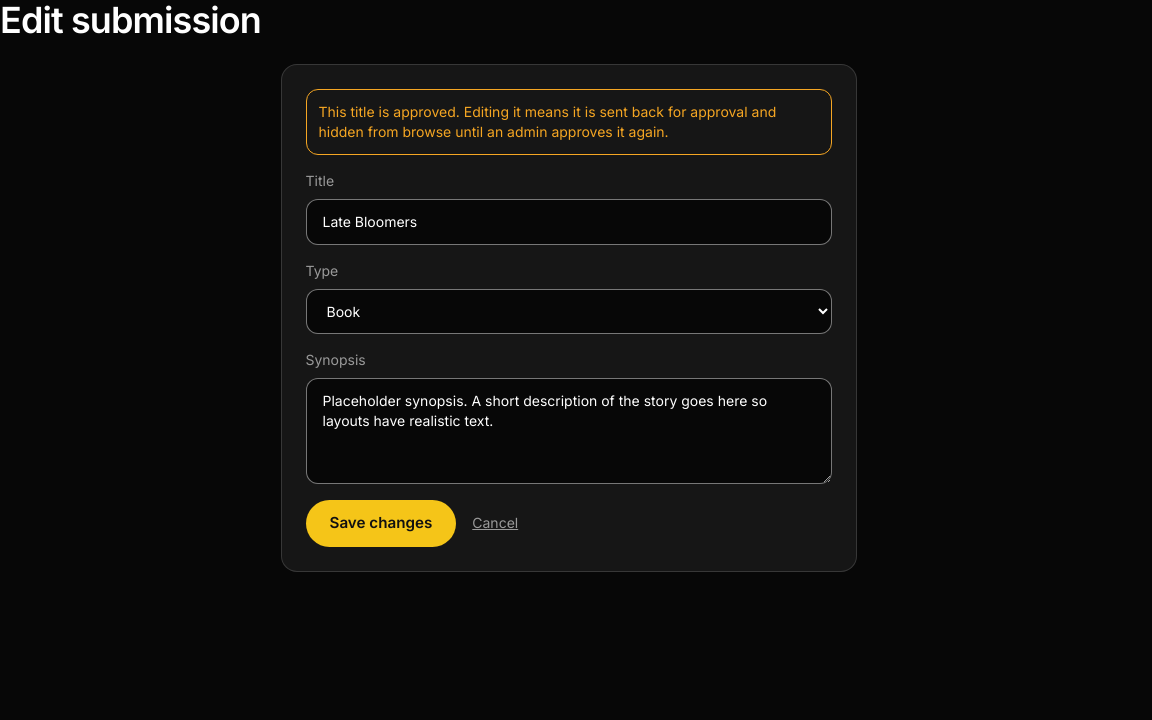
SubmissionForm (edit) › editing an APPROVED title warns first and saves nothing until confirmed
Expected: the text "sent back for approval" is shown, [318,103,776,140]
Replace the text in the field labelled "Title" with "Renamed" at (568, 222), box [306,199,832,245]
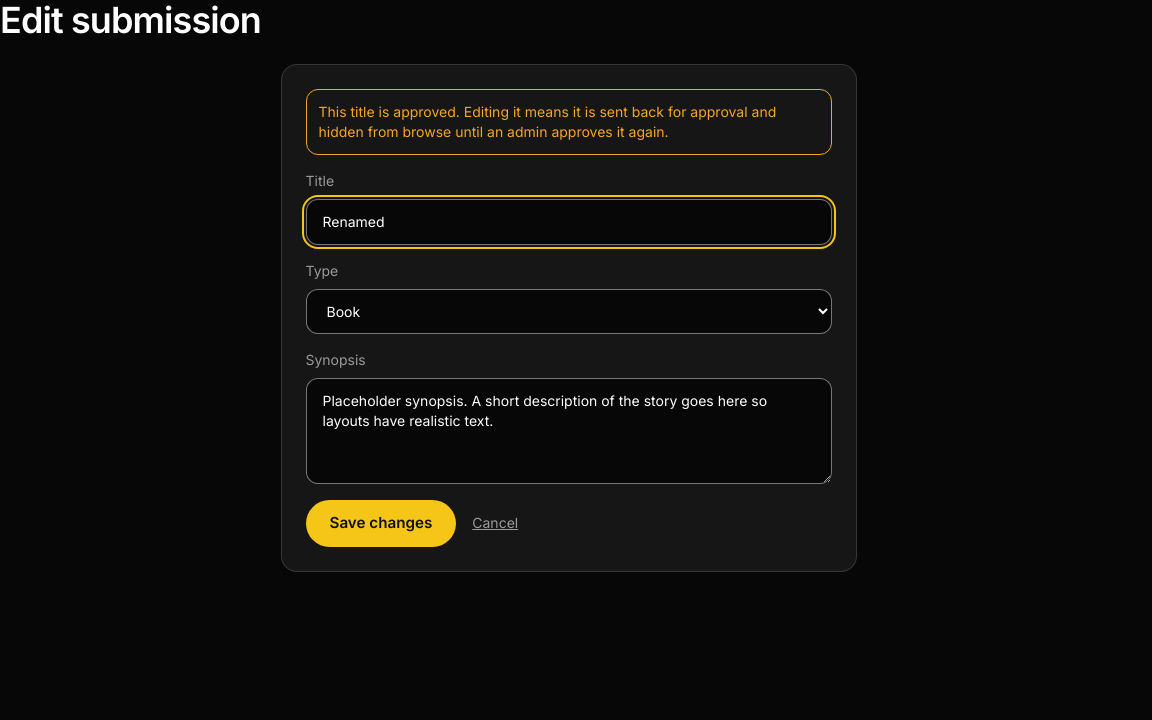
Click the button "Save changes" at (381, 523), box [306,500,456,547]
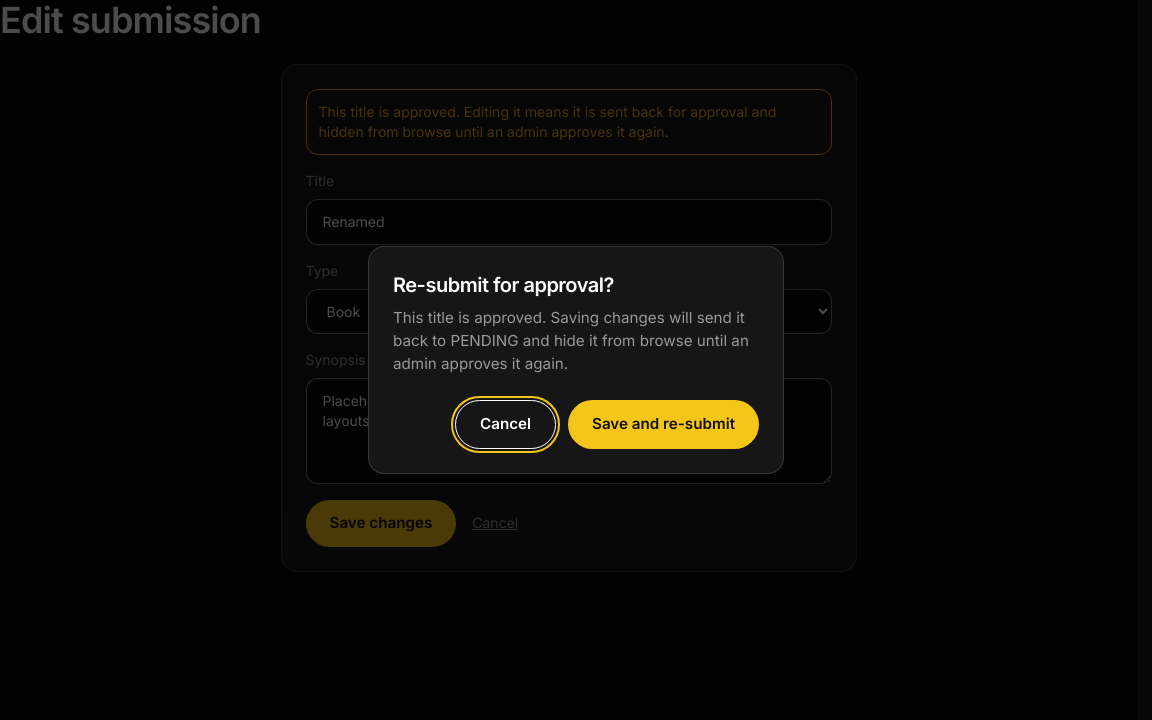
Expected: the heading "Re-submit for approval?" is shown, [393,273,614,297]
Click the button "Cancel" at (506, 424), box [455,400,556,449]
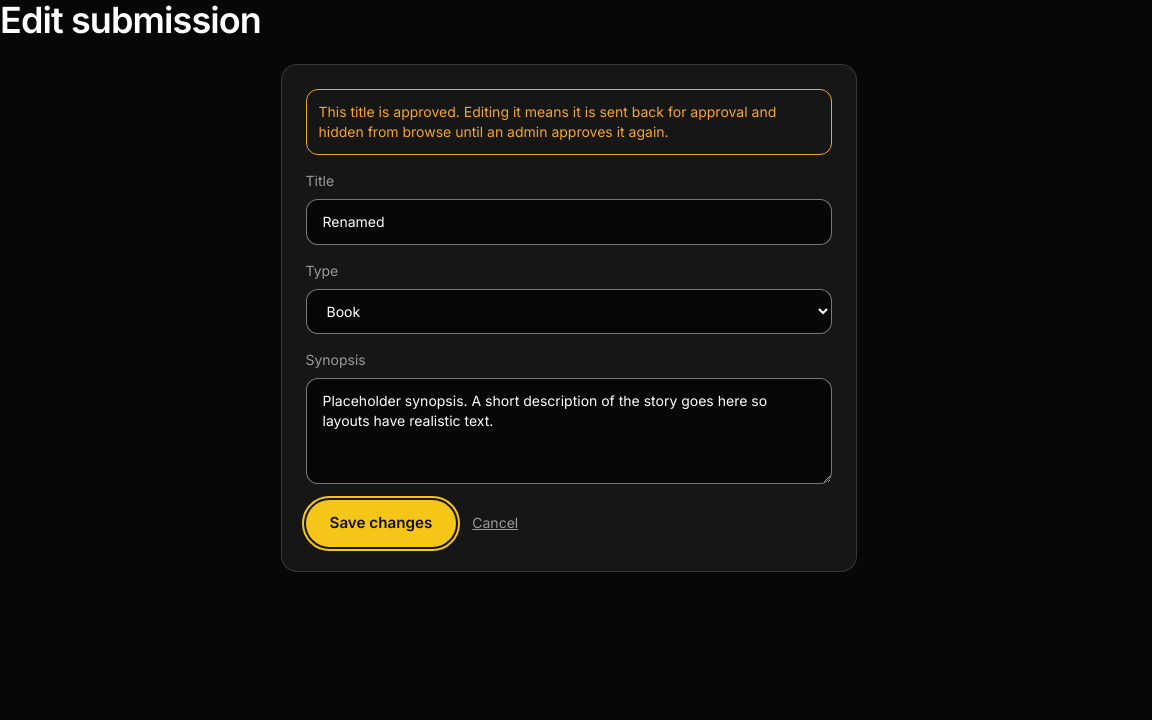
Click the button "Save changes" at (381, 523), box [306,500,456,547]
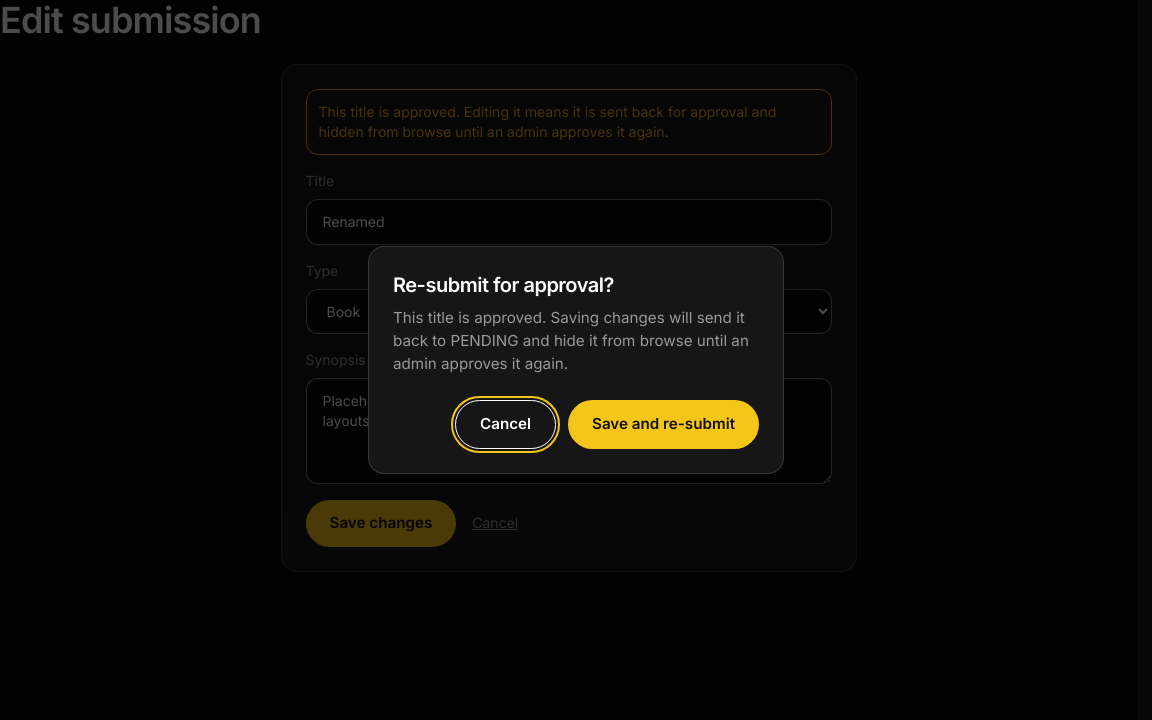
Click the button "Save and re-submit" at (664, 424), box [568,400,759,449]
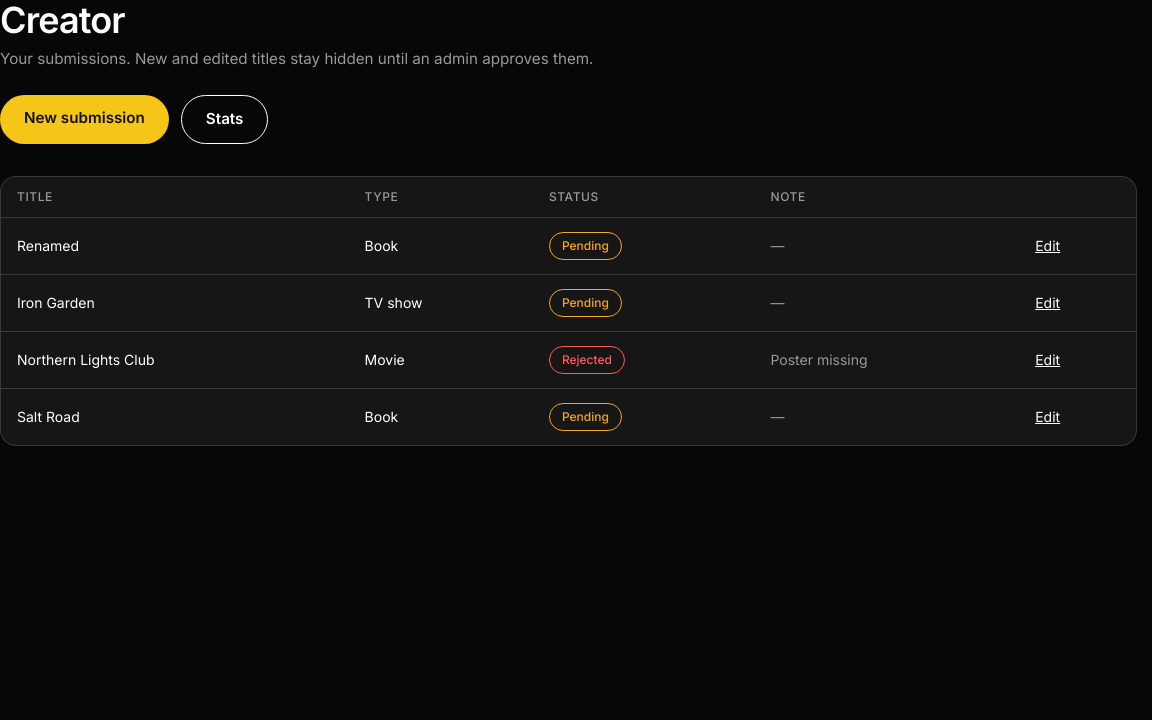
Expected: the text "Pending" in the row of "Renamed" is shown, [562,238,609,253]
